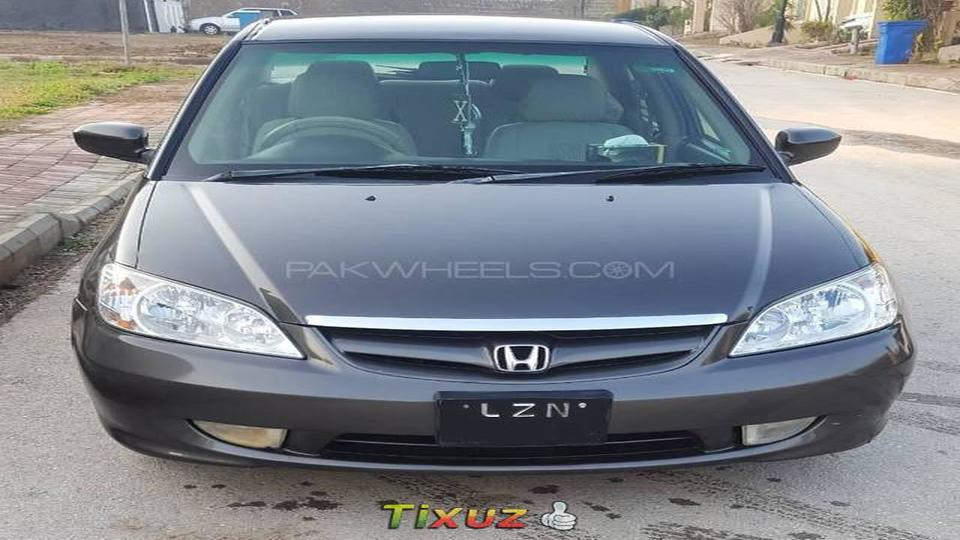NumberPlate: (439, 392, 623, 463)
